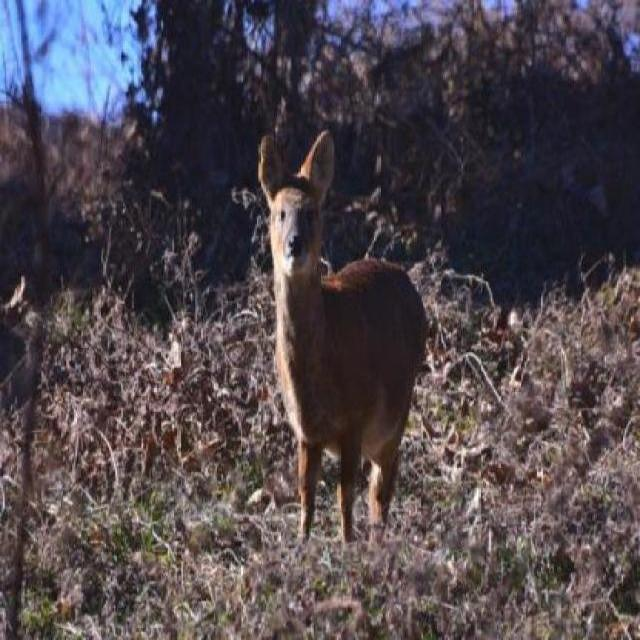deer: (253, 123, 430, 549)
